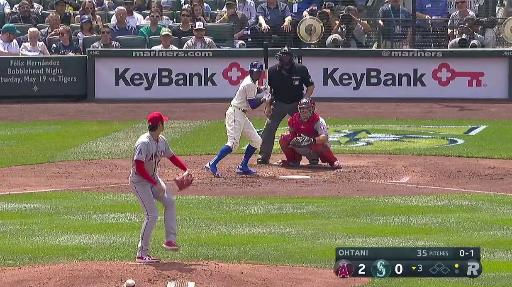pitcher: (130, 112, 194, 266)
